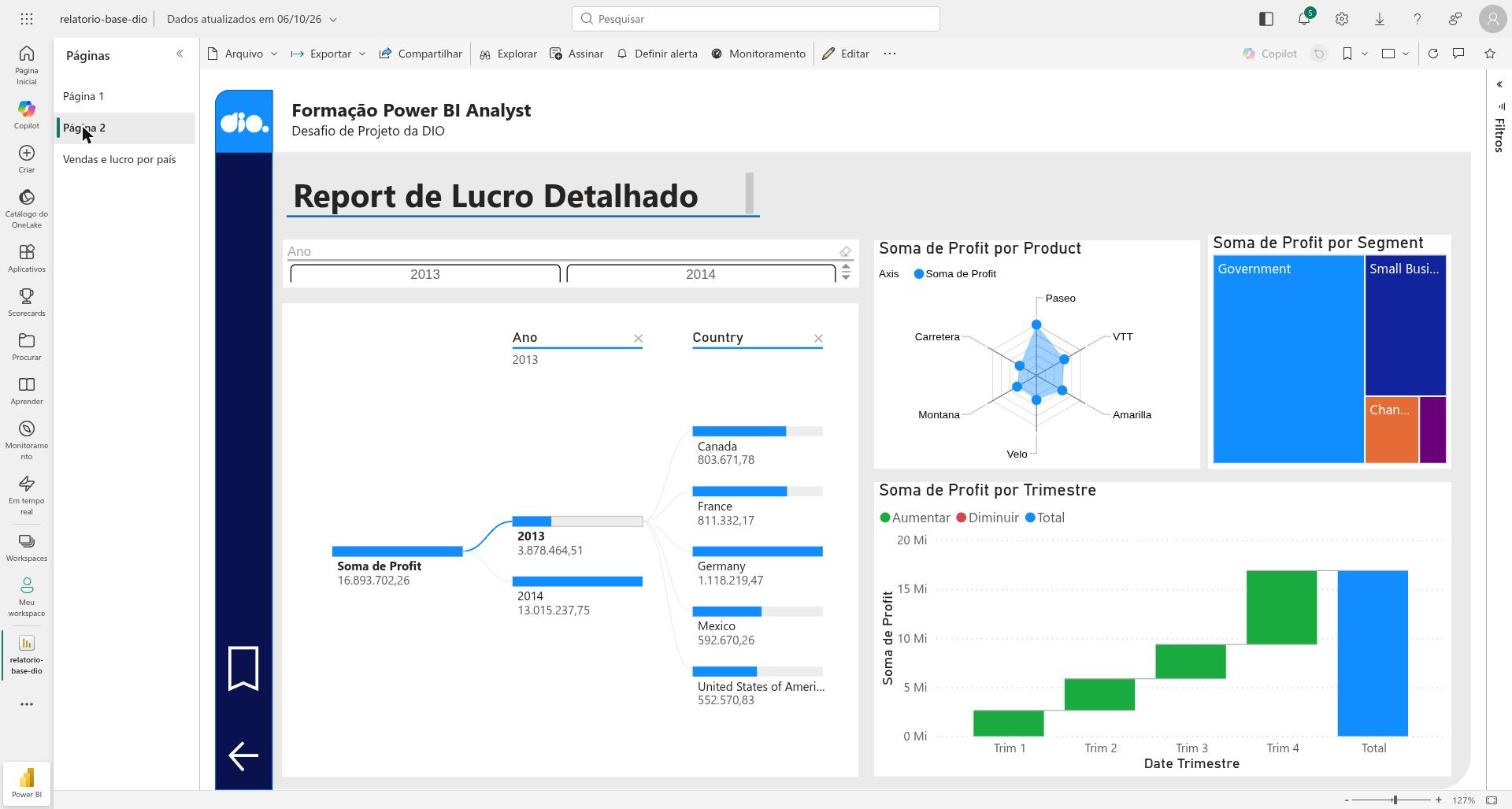

The page's visual inventory and layout, read from the dashboard file:
{"tool":"powerbi","page":{"name":"Página 2","canvas":[1280,720],"ordinal":1},"visuals":[{"type":"shape","box":[42.6,20.7,1225.3,699.3],"z":0},{"type":"shape","box":[84,128.2,473,37.1],"z":0,"group":"g1"},{"type":"shape","box":[12.4,20.2,57.7,699.8],"z":1000},{"type":"textbox","box":[85.4,98,470.2,52.2],"z":1000,"group":"g1"},{"type":"shape","box":[12.4,20.6,57.7,63.2],"z":2000},{"type":"image","box":[13.7,33,57.7,39.9],"z":3000},{"type":"shape","title":"Fundo do Título","box":[71.5,20.6,1198.9,61.9],"z":4000},{"type":"textbox","title":"Título do report","box":[83.9,22,378.1,63.2],"z":5000},{"type":"shape","box":[79.7,233.7,576.1,473],"z":6000},{"type":"decompositionTreeVisual","fields":{"Analyze":["Sum(financials.Profit)"],"ExplainBy":["financials.Date.Variation.Hierarquia de datas.Ano","financials.Country"]},"box":[99.8,242.2,536.3,456.5],"z":7000},{"type":"waterfallChart","fields":{"Category":["financials.Date.Variation.Hierarquia de datas.Trimestre"],"Y":["Sum(financials.Profit)"]},"box":[670.9,412.5,577.4,294.2],"z":8000},{"type":"treemap","fields":{"Group":["financials.Segment"],"Values":["Sum(financials.Profit)"]},"box":[1005,165,243.4,233.7],"z":11000},{"type":"actionButton","box":[22,666.8,48.1,39.9],"z":12000},{"type":"group","id":"g1","title":"Sales report","box":[84,98,473.5,67.6],"z":13000},{"type":"actionButton","box":[12.8,545.8,57,105.5],"z":14000},{"type":"RadarChart1446119667547","fields":{"Category":["financials.Product"],"Y":["Sum(financials.Profit)"]},"box":[671.2,170.4,325.1,228.4],"z":14001},{"type":"ChicletSlicer1448559807354","fields":{"Category":["financials.Date.Variation.Hierarquia de datas.Ano"]},"box":[80,170,576,48],"z":14002}]}

Visuals, with their boxes on the page's 1280x720 design canvas (x1, y1, x2, y2). These are canvas units, not pixel positions in the 1512x809 screenshot, which may show the page scaled, cropped or inside an application window:
shape: <bbox>43, 21, 1268, 720</bbox>
shape: <bbox>84, 128, 557, 165</bbox>
shape: <bbox>12, 20, 70, 720</bbox>
textbox: <bbox>85, 98, 556, 150</bbox>
shape: <bbox>12, 21, 70, 84</bbox>
image: <bbox>14, 33, 71, 73</bbox>
"Fundo do Título" shape: <bbox>72, 21, 1270, 82</bbox>
"Título do report" textbox: <bbox>84, 22, 462, 85</bbox>
shape: <bbox>80, 234, 656, 707</bbox>
decompositionTreeVisual - Sum(financials.Profit) x financials.Date.Variation.Hierarquia de datas.Ano: <bbox>100, 242, 636, 699</bbox>
waterfallChart - financials.Date.Variation.Hierarquia de datas.Trimestre x Sum(financials.Profit): <bbox>671, 412, 1248, 707</bbox>
treemap - financials.Segment x Sum(financials.Profit): <bbox>1005, 165, 1248, 399</bbox>
actionButton: <bbox>22, 667, 70, 707</bbox>
"Sales report" group: <bbox>84, 98, 558, 166</bbox>
actionButton: <bbox>13, 546, 70, 651</bbox>
RadarChart1446119667547 - financials.Product x Sum(financials.Profit): <bbox>671, 170, 996, 399</bbox>
ChicletSlicer1448559807354 - financials.Date.Variation.Hierarquia de datas.Ano: <bbox>80, 170, 656, 218</bbox>
